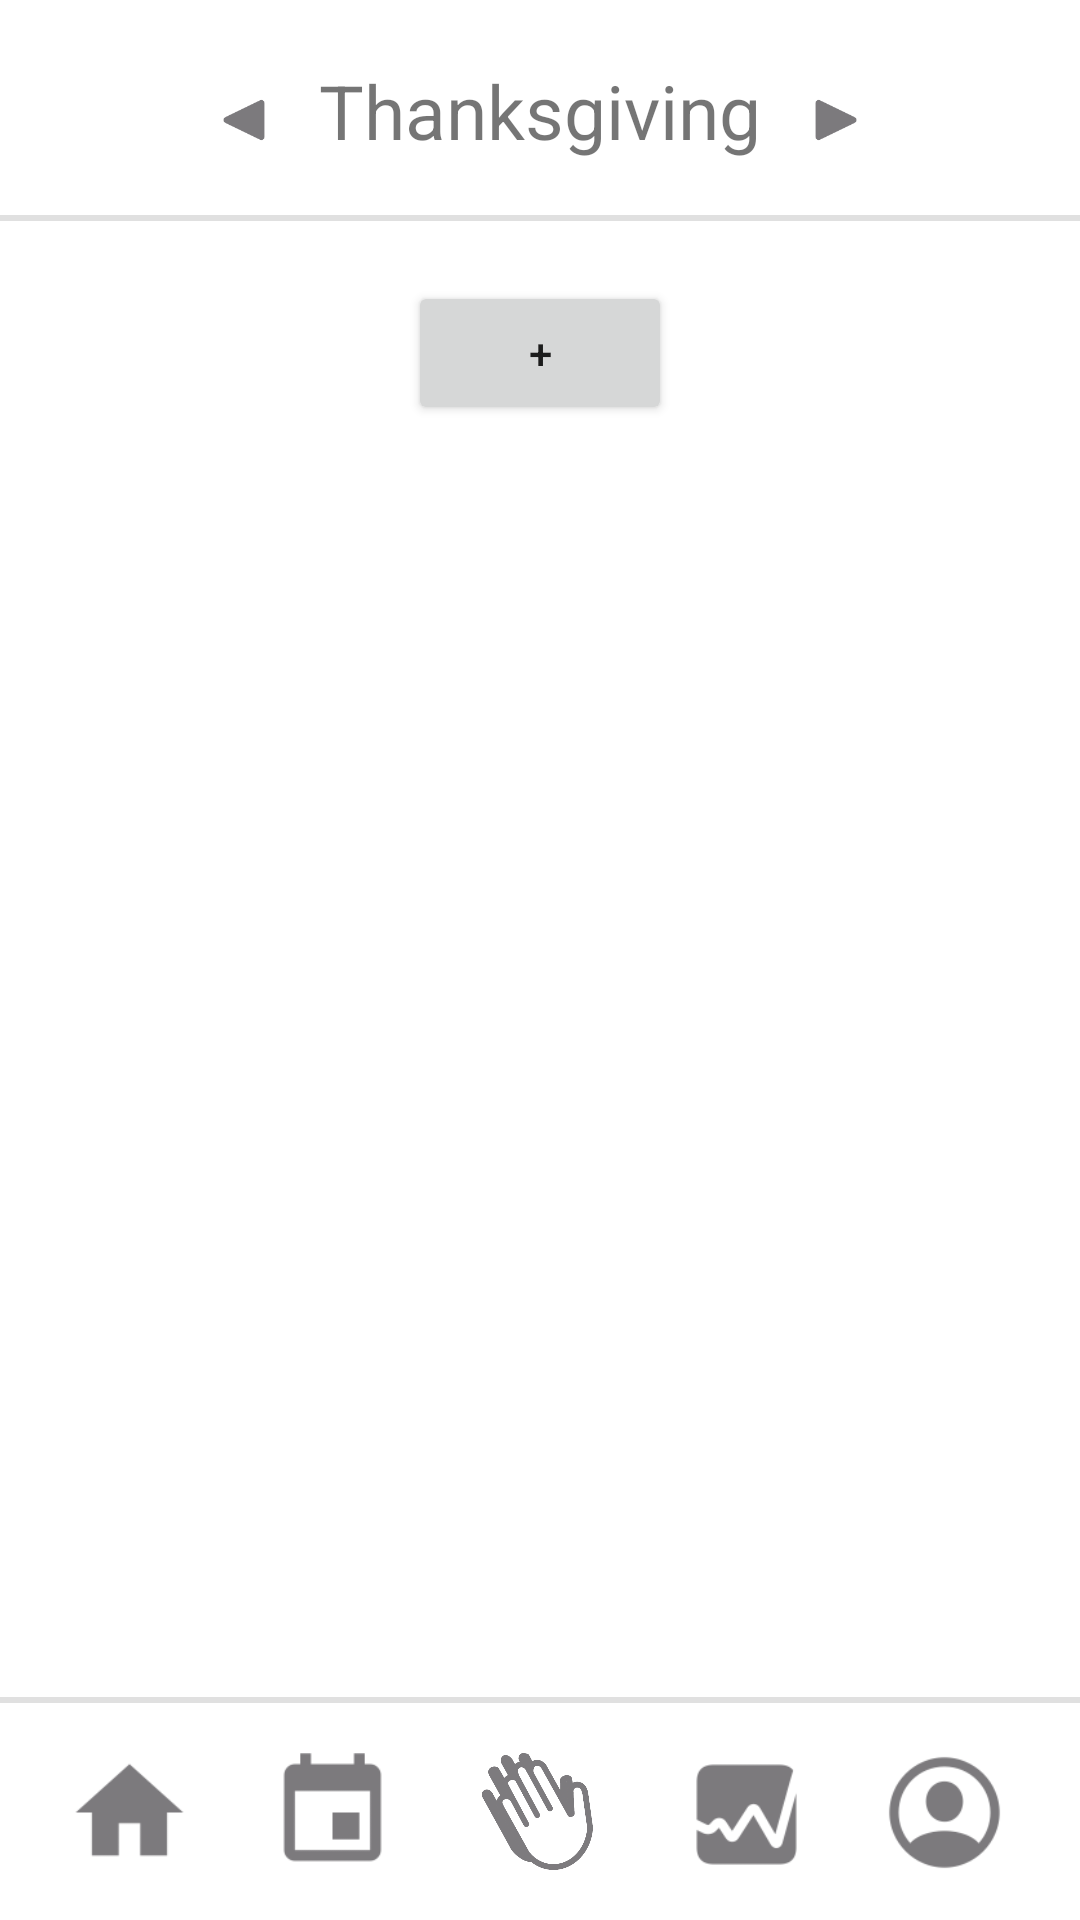

Icon click points for this 1080 × 1920 phone screenshot, format (x,y):
calendarbutton: (332,1807)
homebutton: (129,1810)
left button: (244,120)
mypagebutton: (944,1812)
praybutton: (537,1811)
right button: (836,120)
summarybutton: (746,1814)
